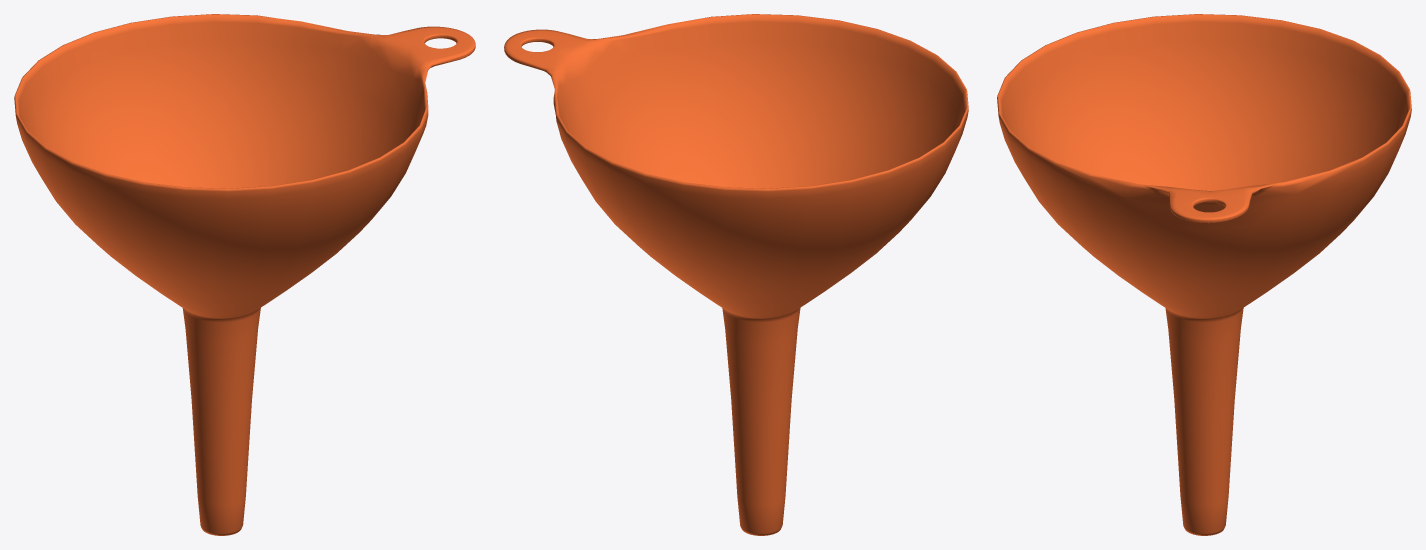
The model's file is Funnel_02.fbx.
The picture shows the model from 3 angles, left to right: view 1: azimuth 30°, elevation 25°; view 2: azimuth 150°, elevation 25°; view 3: azimuth 270°, elevation 25°; orthographic projection.
Visible parts, largest first — view 1: Cylinder; view 2: Cylinder; view 3: Cylinder.
Boxes of the visible parts, box(x1,y1,x2,y2) form: Cylinder: box(14, 14, 475, 535); Cylinder: box(504, 14, 968, 535); Cylinder: box(997, 14, 1411, 535).
Size of the model in its own units: 5 by 4.78 by 4.18.
